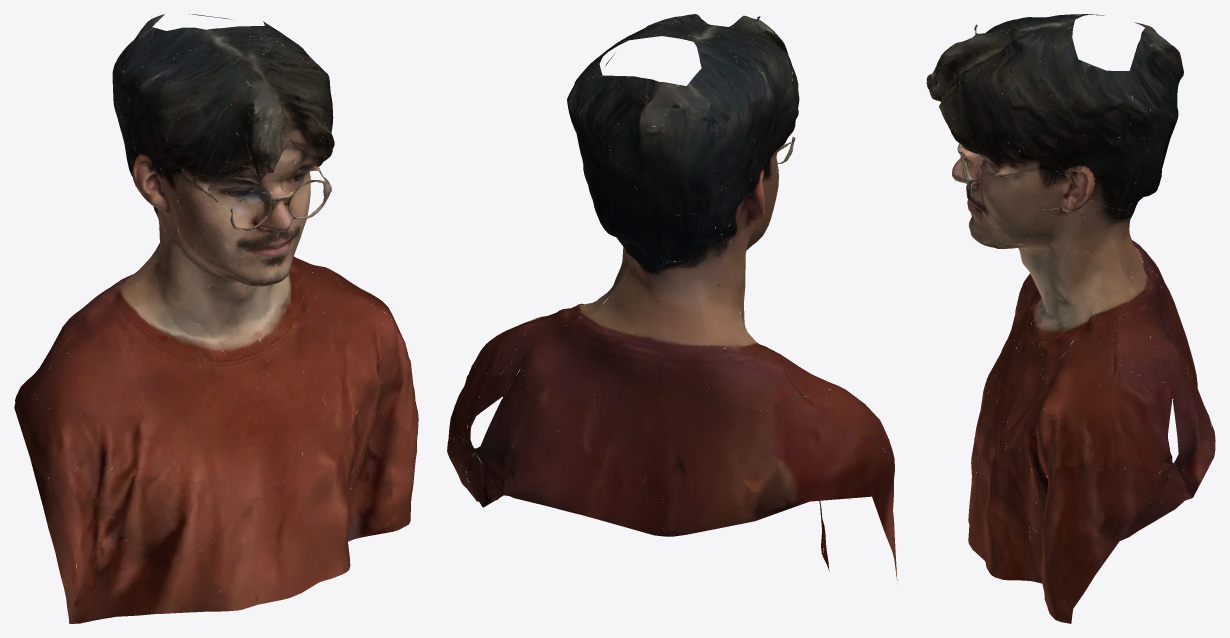
The picture shows the model from 3 angles, left to right: view 1: azimuth 30°, elevation 25°; view 2: azimuth 150°, elevation 25°; view 3: azimuth 270°, elevation 25°; orthographic projection. The views are drawn at different scales.
Visible parts, largest first — view 1: Mesh_0; view 2: Mesh_0; view 3: Mesh_0.
Part boxes in pixels (x1,y1,x2,y2): Mesh_0: (14, 14, 418, 623); Mesh_0: (447, 14, 897, 583); Mesh_0: (926, 14, 1215, 623).
Bounding box in the file's own units: 0.9816 × 1.29 × 0.6603.
Materials: 1 (1 with a texture image).
